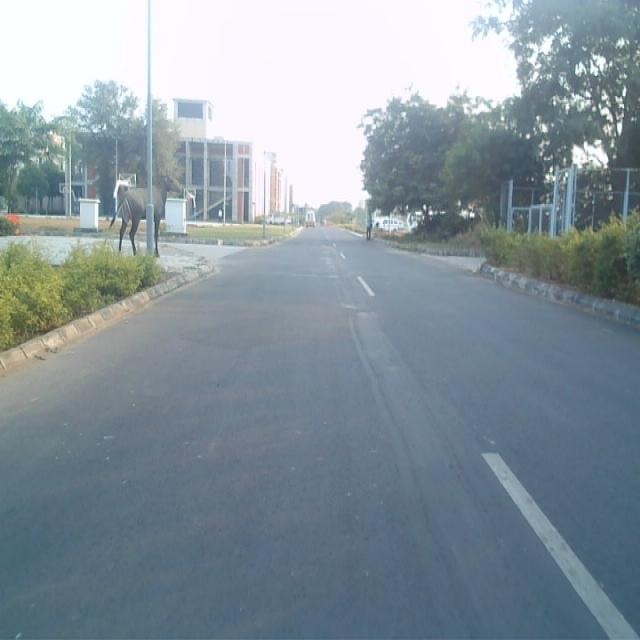lane: (0, 230, 611, 640)
